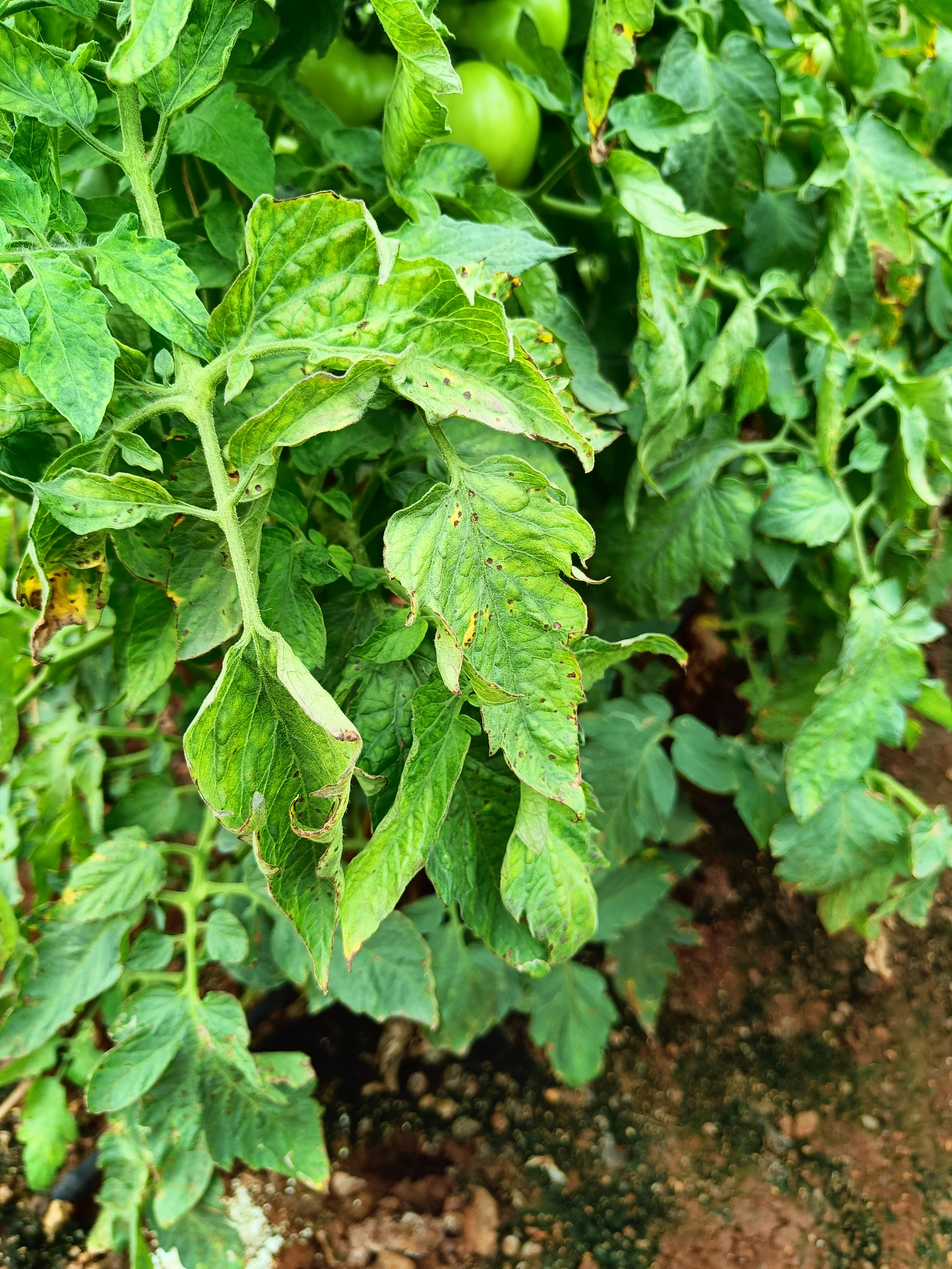Early Blight: (206, 185, 603, 477), (378, 452, 606, 828), (180, 620, 368, 999), (6, 439, 109, 674), (12, 468, 175, 540)
